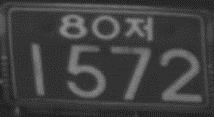0: (91, 14, 120, 39)
1: (21, 42, 56, 95)
2: (159, 47, 202, 103)
5: (65, 43, 107, 99)
7: (109, 44, 152, 101)
8: (58, 13, 87, 39)
저: (122, 15, 153, 41)
